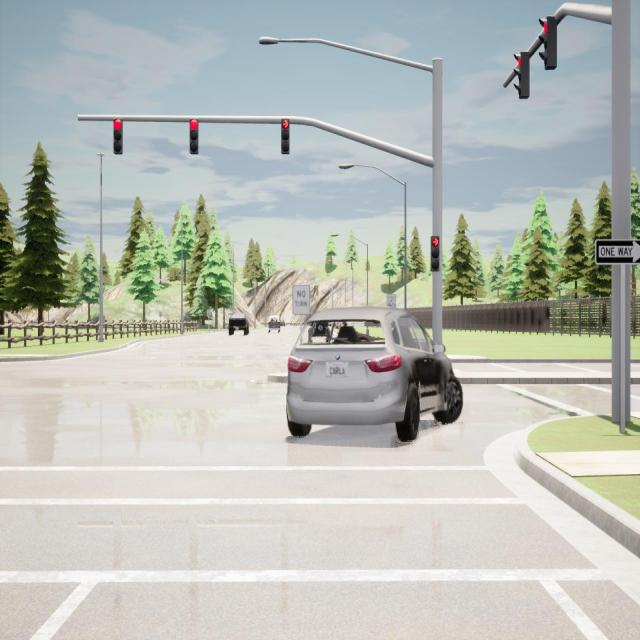Traffic_Signs: (595, 239, 640, 264), (292, 284, 309, 314), (386, 293, 396, 307), (206, 310, 211, 316)
Vehicle: (286, 307, 462, 441), (227, 313, 249, 339), (267, 315, 281, 335)
traffic_light: (538, 17, 557, 72), (511, 52, 531, 98), (113, 118, 123, 155), (430, 237, 440, 271), (281, 118, 289, 155), (190, 118, 198, 155)
